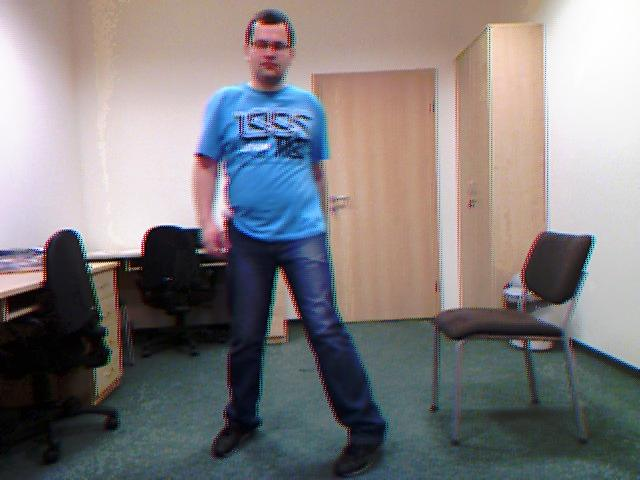walking: (183, 0, 397, 480)
